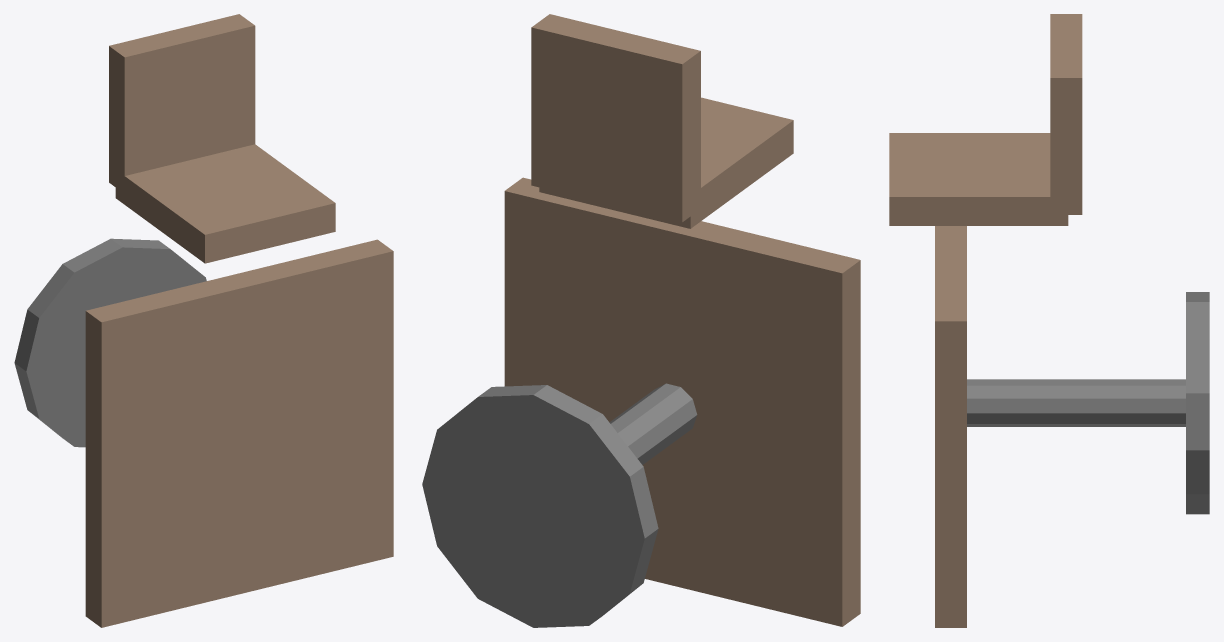
File: decor_outdoor_table_chairs.glb
The picture shows the model from 3 angles, left to right: view 1: azimuth 30°, elevation 25°; view 2: azimuth 150°, elevation 25°; view 3: azimuth 270°, elevation 25°; orthographic projection. The views are drawn at different scales.
Visible parts, largest first — view 1: table_top, chair_seat, chair_back, table_base; view 2: table_top, table_base, chair_seat, chair_back, table_leg; view 3: chair_back, table_top, table_leg, chair_seat, table_base.
Part boxes in pixels (box(x1,y1,x2,y2)): table_top: box(85, 239, 393, 627); chair_seat: box(109, 14, 255, 193); chair_back: box(115, 144, 335, 263); table_base: box(14, 238, 206, 447); table_top: box(504, 177, 860, 626); table_base: box(422, 385, 658, 627); chair_seat: box(531, 14, 700, 222); chair_back: box(539, 97, 793, 228); table_leg: box(609, 383, 697, 464); chair_back: box(889, 133, 1068, 225); table_top: box(935, 226, 966, 627); table_leg: box(967, 379, 1185, 426); chair_seat: box(1050, 14, 1082, 214); table_base: box(1186, 292, 1209, 514).
Bounding box in the file's own units: 0.85 × 1.42 × 0.805.
